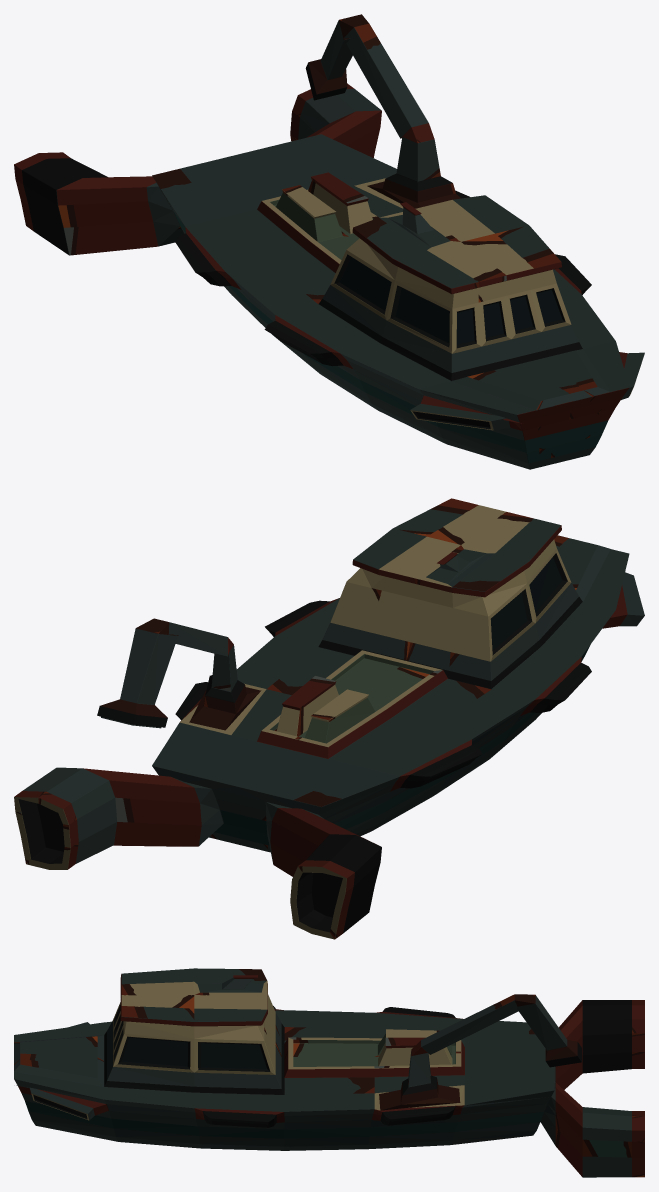
File: Umbral_v4_Desgastada.obj
3 views of the same model, one above another, from view 1: azimuth 30°, elevation 25°; view 2: azimuth 150°, elevation 25°; view 3: azimuth 270°, elevation 25° (orthographic). The views are drawn at different scales.
Visible parts, largest first — view 1: GEO-Umbral_v4_Desgastada; view 2: GEO-Umbral_v4_Desgastada; view 3: GEO-Umbral_v4_Desgastada.
Part boxes in pixels (<box>): GEO-Umbral_v4_Desgastada: <box>14,14,644,469</box>; GEO-Umbral_v4_Desgastada: <box>14,498,644,939</box>; GEO-Umbral_v4_Desgastada: <box>14,968,644,1177</box>.
Bounding box in the file's own units: 5.02 × 2.89 × 10.26.
